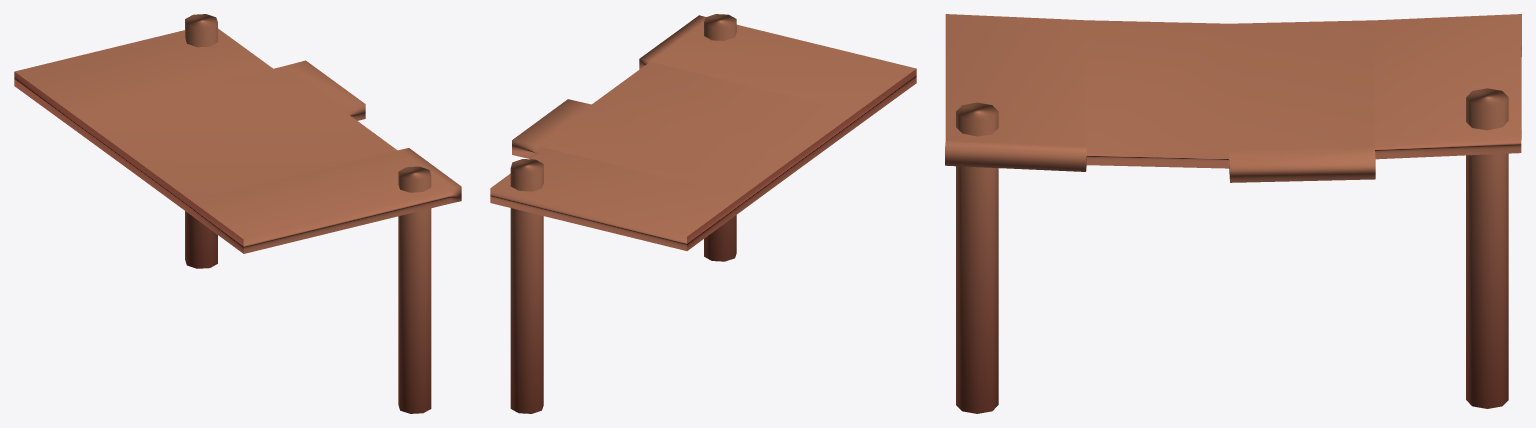
File: WoodScaffolding02.fbx
3 views of the same model, side by side, from view 1: azimuth 30°, elevation 25°; view 2: azimuth 150°, elevation 25°; view 3: azimuth 270°, elevation 25° (orthographic). The views are drawn at different scales.
Visible parts, largest first — view 1: WoodScaffolding02; view 2: WoodScaffolding02; view 3: WoodScaffolding02.
Boxes of the visible parts, x1,y1,x2,y2 form: WoodScaffolding02: (14,14,461,413); WoodScaffolding02: (490,14,916,413); WoodScaffolding02: (945,14,1521,413).
Bounding box in the file's own units: 0.5978 × 0.5851 × 1.01.
1 material, 1 textured.
